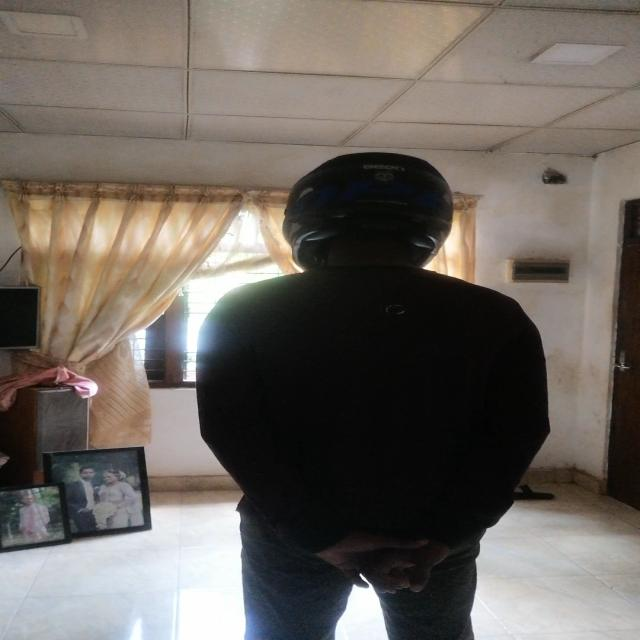Helmet_Wearer: (264, 149, 452, 280)
Person: (215, 141, 561, 631)
